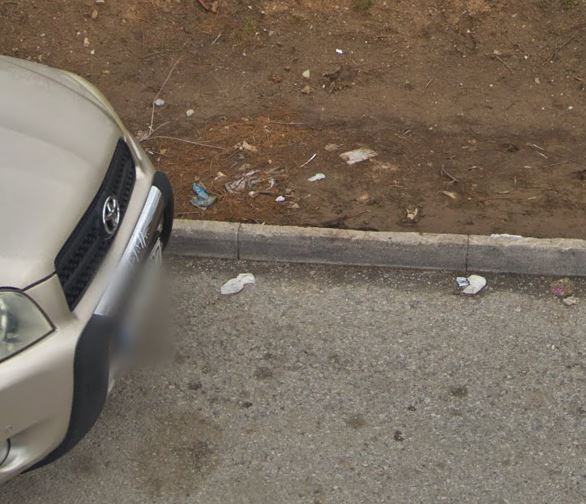trash: (221, 160, 291, 206), (213, 265, 262, 304), (448, 267, 494, 298), (336, 142, 385, 170), (182, 177, 220, 213), (549, 273, 582, 311)
